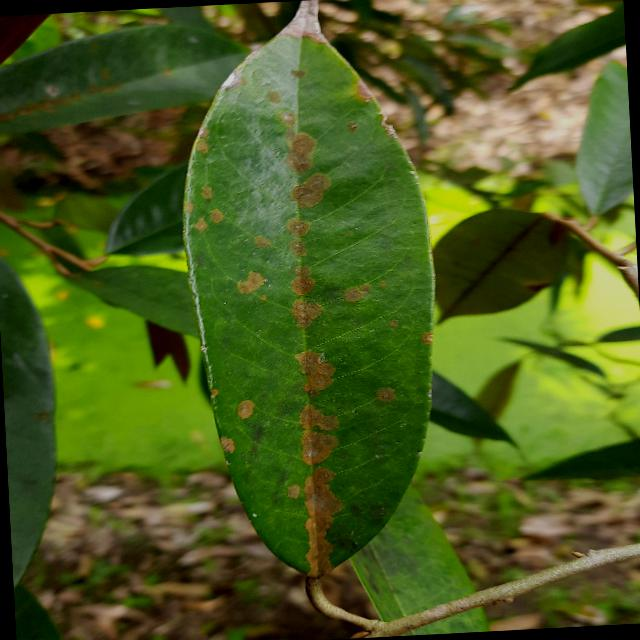Algal Leaf Spot: (163, 0, 458, 639)
